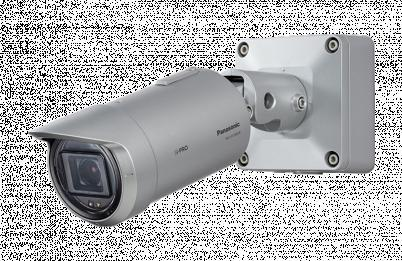tutu: (27, 32, 377, 227)
